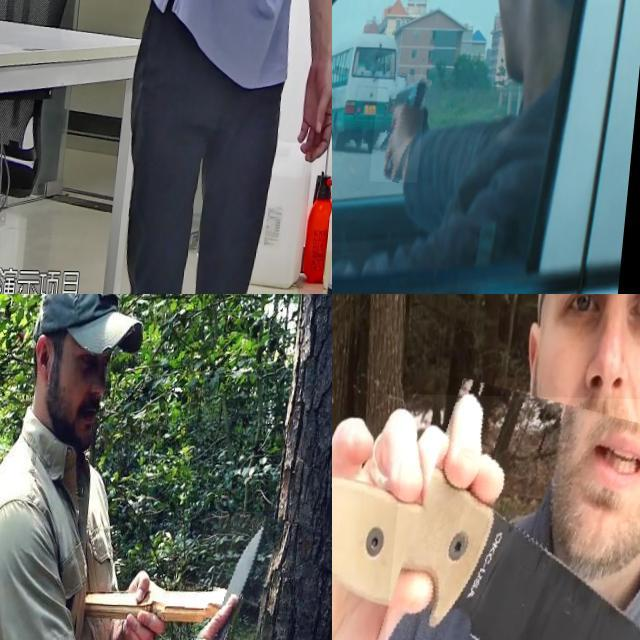-: (389, 393, 640, 640), (196, 508, 280, 640)
gun-knife-thesis - v11 Yolov5 augmented: (119, 0, 238, 109), (378, 71, 434, 181)
